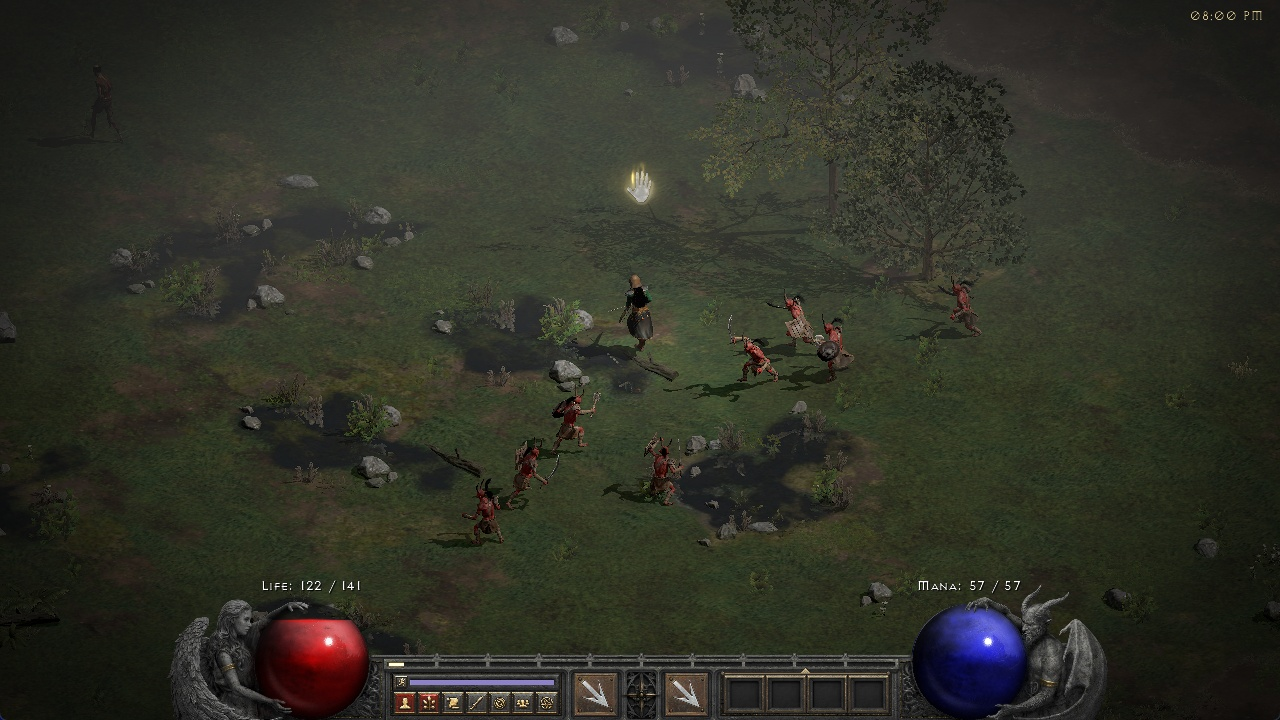fallen: (548, 384, 607, 447), (639, 431, 686, 503), (721, 321, 776, 382), (938, 274, 980, 344), (462, 481, 507, 545), (764, 289, 816, 343), (815, 314, 857, 378), (508, 439, 553, 492)
